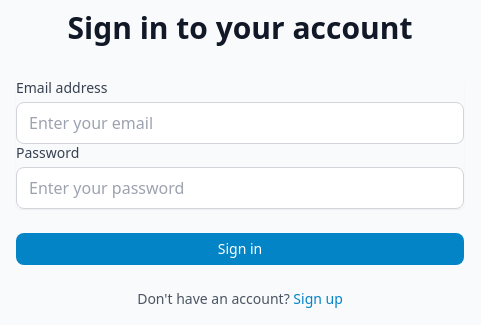
LoginPage › shows loading state when submitting
The width and height of the screenshot is (481, 325).
In the field labelled "Email address": coordinates (240, 122) left=16, top=102, right=464, bottom=144, type "test@example.com"
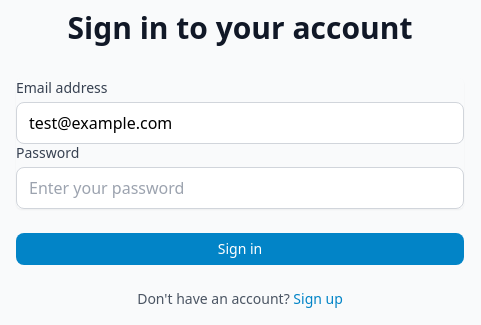
In the password field labelled "Password": coordinates (240, 188) left=16, top=166, right=464, bottom=208, type "password123"
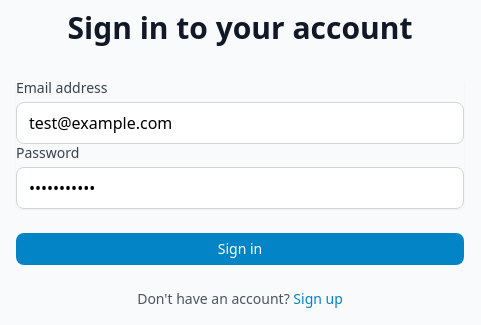
Click the button "Sign in": coordinates (240, 248) left=16, top=232, right=464, bottom=264
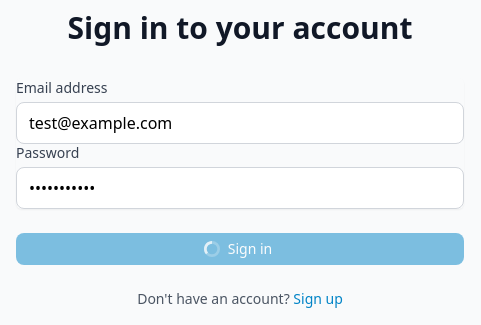
Check: the button "Sign in" is disabled, box left=16, top=232, right=464, bottom=264
